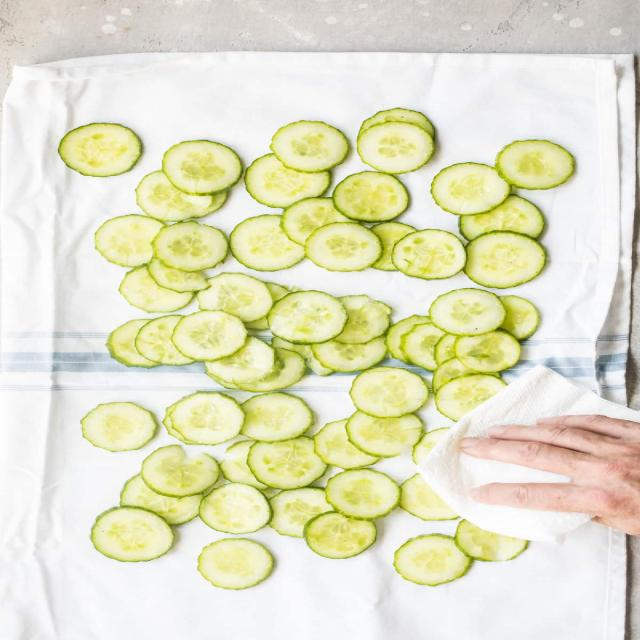Pickle: (463, 231, 546, 289), (90, 506, 174, 561), (58, 122, 142, 176), (268, 290, 349, 345), (163, 140, 242, 195), (431, 162, 510, 215), (349, 366, 429, 418), (141, 445, 219, 498), (248, 436, 326, 489), (120, 475, 202, 525), (358, 121, 435, 174), (171, 391, 246, 445), (270, 121, 349, 172), (394, 534, 471, 586), (495, 140, 574, 190), (172, 310, 248, 361), (152, 221, 229, 271), (197, 539, 274, 589), (326, 469, 401, 520), (459, 195, 544, 240), (334, 171, 409, 221), (392, 229, 467, 279), (306, 222, 382, 271), (240, 392, 313, 442), (345, 411, 422, 458), (281, 198, 356, 245), (268, 488, 334, 538)
